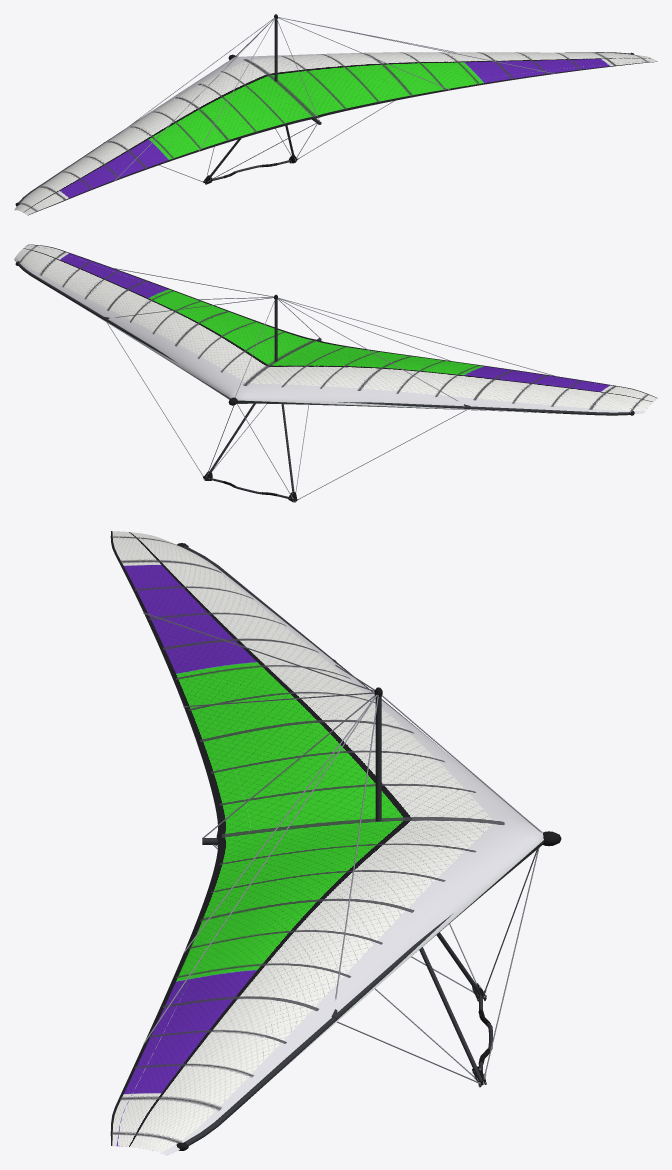
Rendered from glider_seed_skyrunner_xr.glb.
The picture shows the model from 3 angles, top to bottom: view 1: azimuth 30°, elevation 25°; view 2: azimuth 150°, elevation 25°; view 3: azimuth 270°, elevation 25°; orthographic projection. The views are drawn at different scales.
Parts seen in each view (by area): view 1: Sail, Frame, ControlFrame; view 2: Sail, Frame, ControlFrame; view 3: Sail, Frame, ControlFrame.
Part boxes in pixels (x1,y1,x2,y2): Sail: (14,52,657,215); Frame: (15,14,634,206); ControlFrame: (159,101,394,184); Sail: (14,244,657,413); Frame: (15,261,634,415); ControlFrame: (107,323,466,502); Sail: (110,531,543,1155); Frame: (143,543,561,1150); ControlFrame: (212,844,539,1087).
Bounding box in the file's own units: 10.2 × 2.76 × 3.16.
8 materials, 1 textured.
